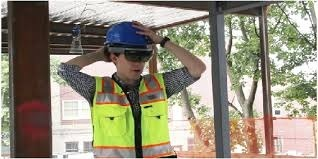helmet: (102, 17, 155, 51)
person with full safety: (82, 18, 181, 157)
safety vest: (91, 74, 170, 157)
